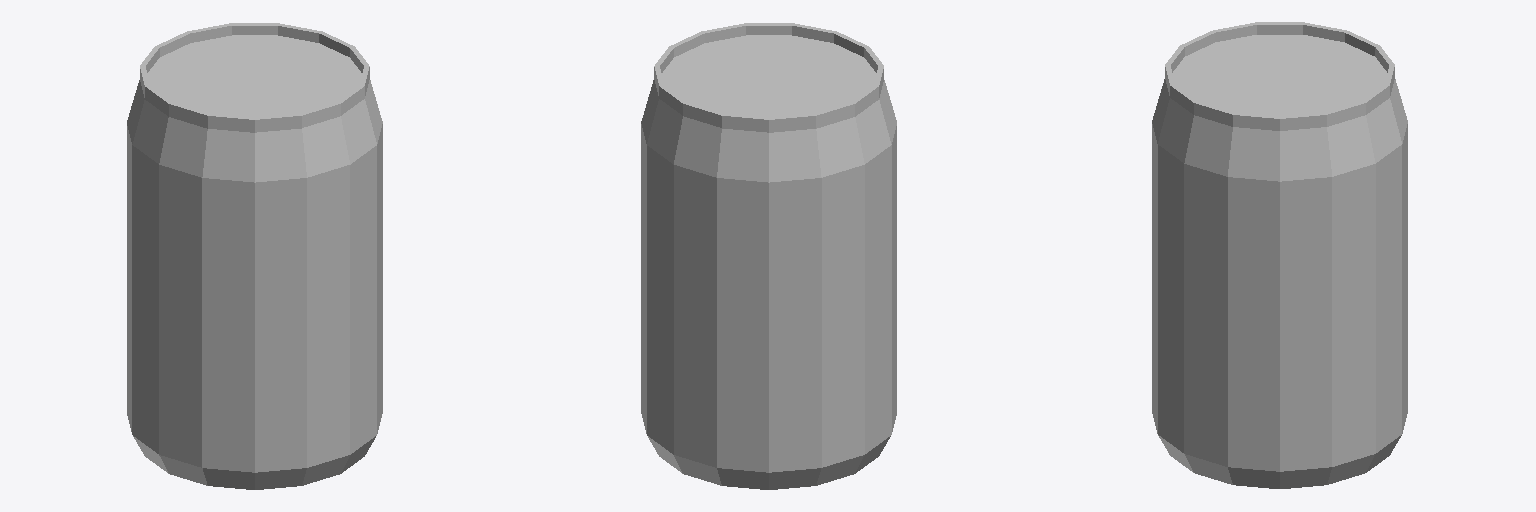
The model's file is mountaindew.obj.
3 views of the same model, side by side, from view 1: azimuth 30°, elevation 25°; view 2: azimuth 150°, elevation 25°; view 3: azimuth 270°, elevation 25° (orthographic).
Visible parts, largest first — view 1: pCylinder2; view 2: pCylinder2; view 3: pCylinder2.
Boxes of the visible parts, x1=… form: pCylinder2: x1=127, y1=23, x2=382, y2=489; pCylinder2: x1=641, y1=23, x2=896, y2=489; pCylinder2: x1=1152, y1=22, x2=1407, y2=488.
Bounding box in the file's own units: 1.64 × 2.64 × 1.65.